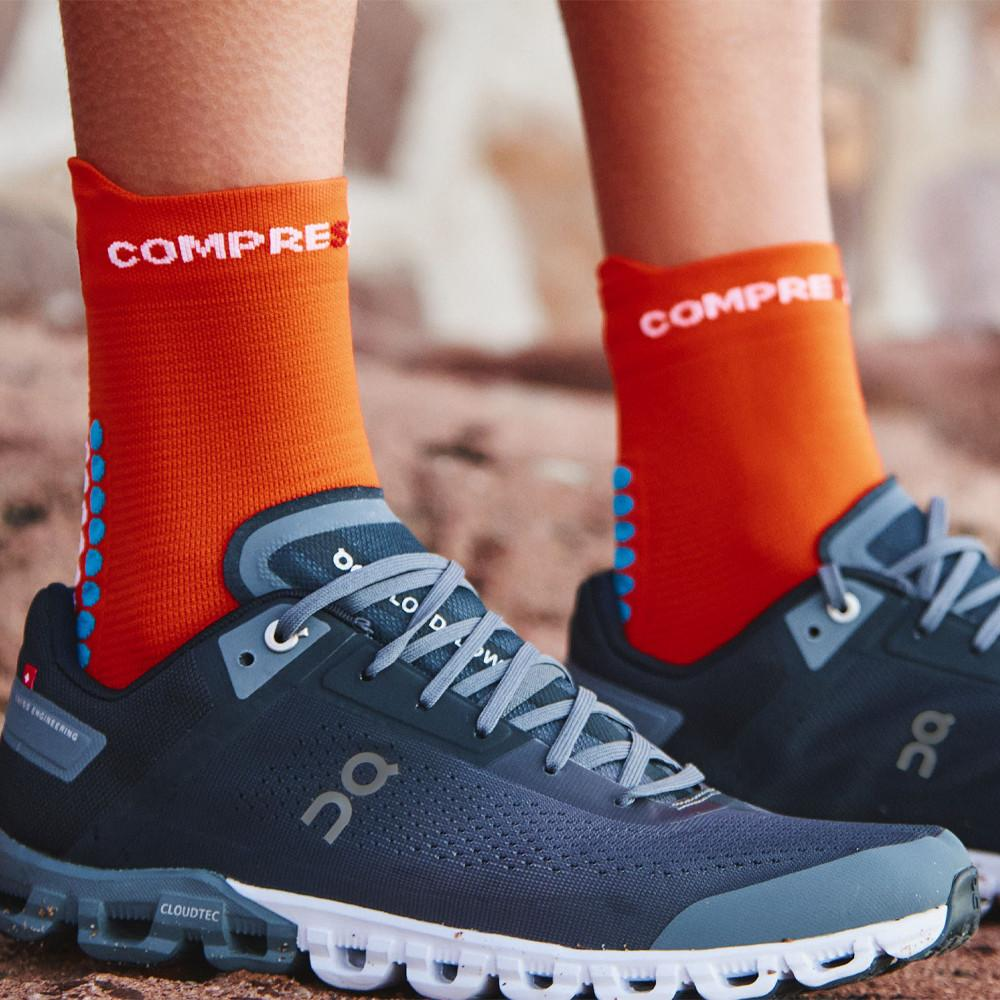OC_logo: (217, 696, 524, 903), (799, 636, 971, 809)
sock logo: (62, 168, 389, 685)
